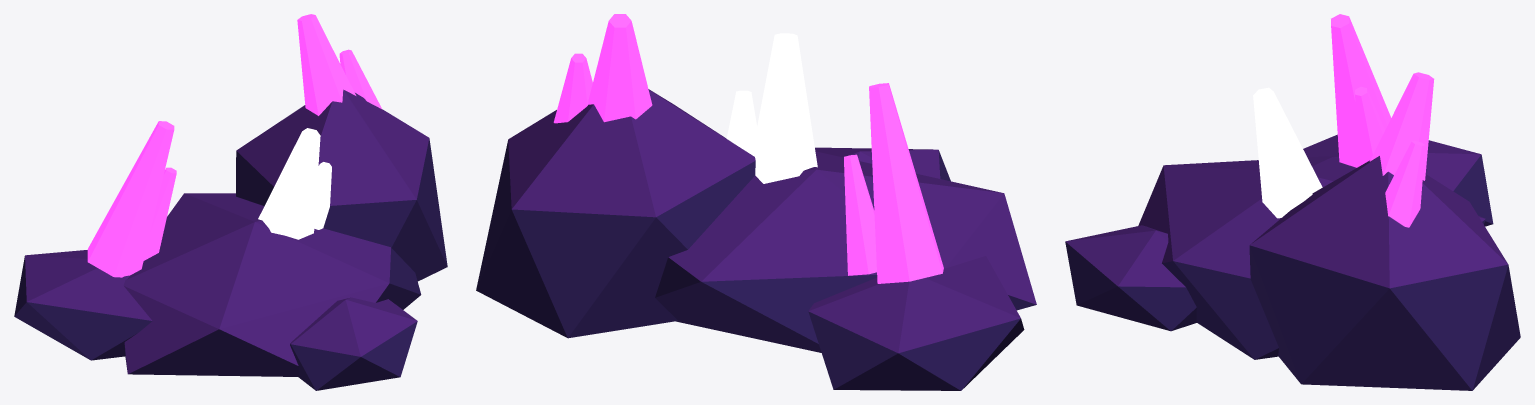
File: W6_Rock_C.fbx
3 renders of one model, left to right at view 1: azimuth 30°, elevation 25°; view 2: azimuth 150°, elevation 25°; view 3: azimuth 270°, elevation 25°, orthographic. The views are drawn at different scales.
Visible parts, largest first — view 1: W6_Rock_C; view 2: W6_Rock_C; view 3: W6_Rock_C.
Boxes of the visible parts, x1,y1,x2,y2 form: W6_Rock_C: (14,14,447,390); W6_Rock_C: (476,14,1036,390); W6_Rock_C: (1065,14,1520,390).
Size of the model in its own units: 3.02 by 1.64 by 2.55.
